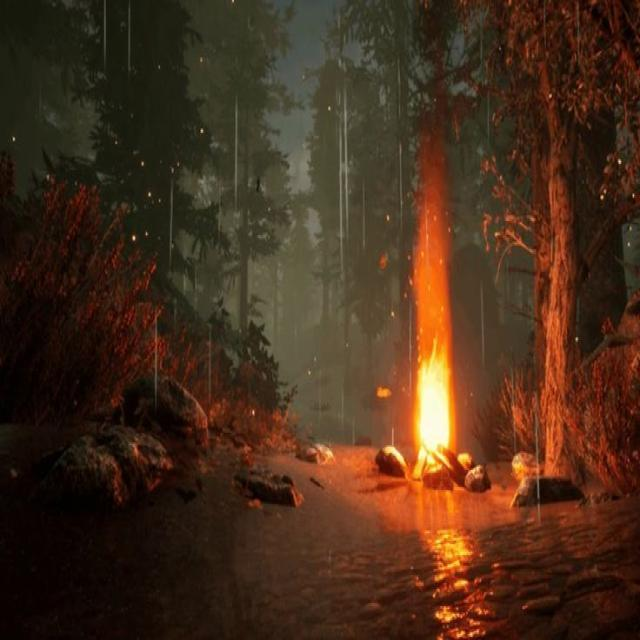Fire: (408, 338, 456, 470)
Smoke: (248, 174, 365, 424)
